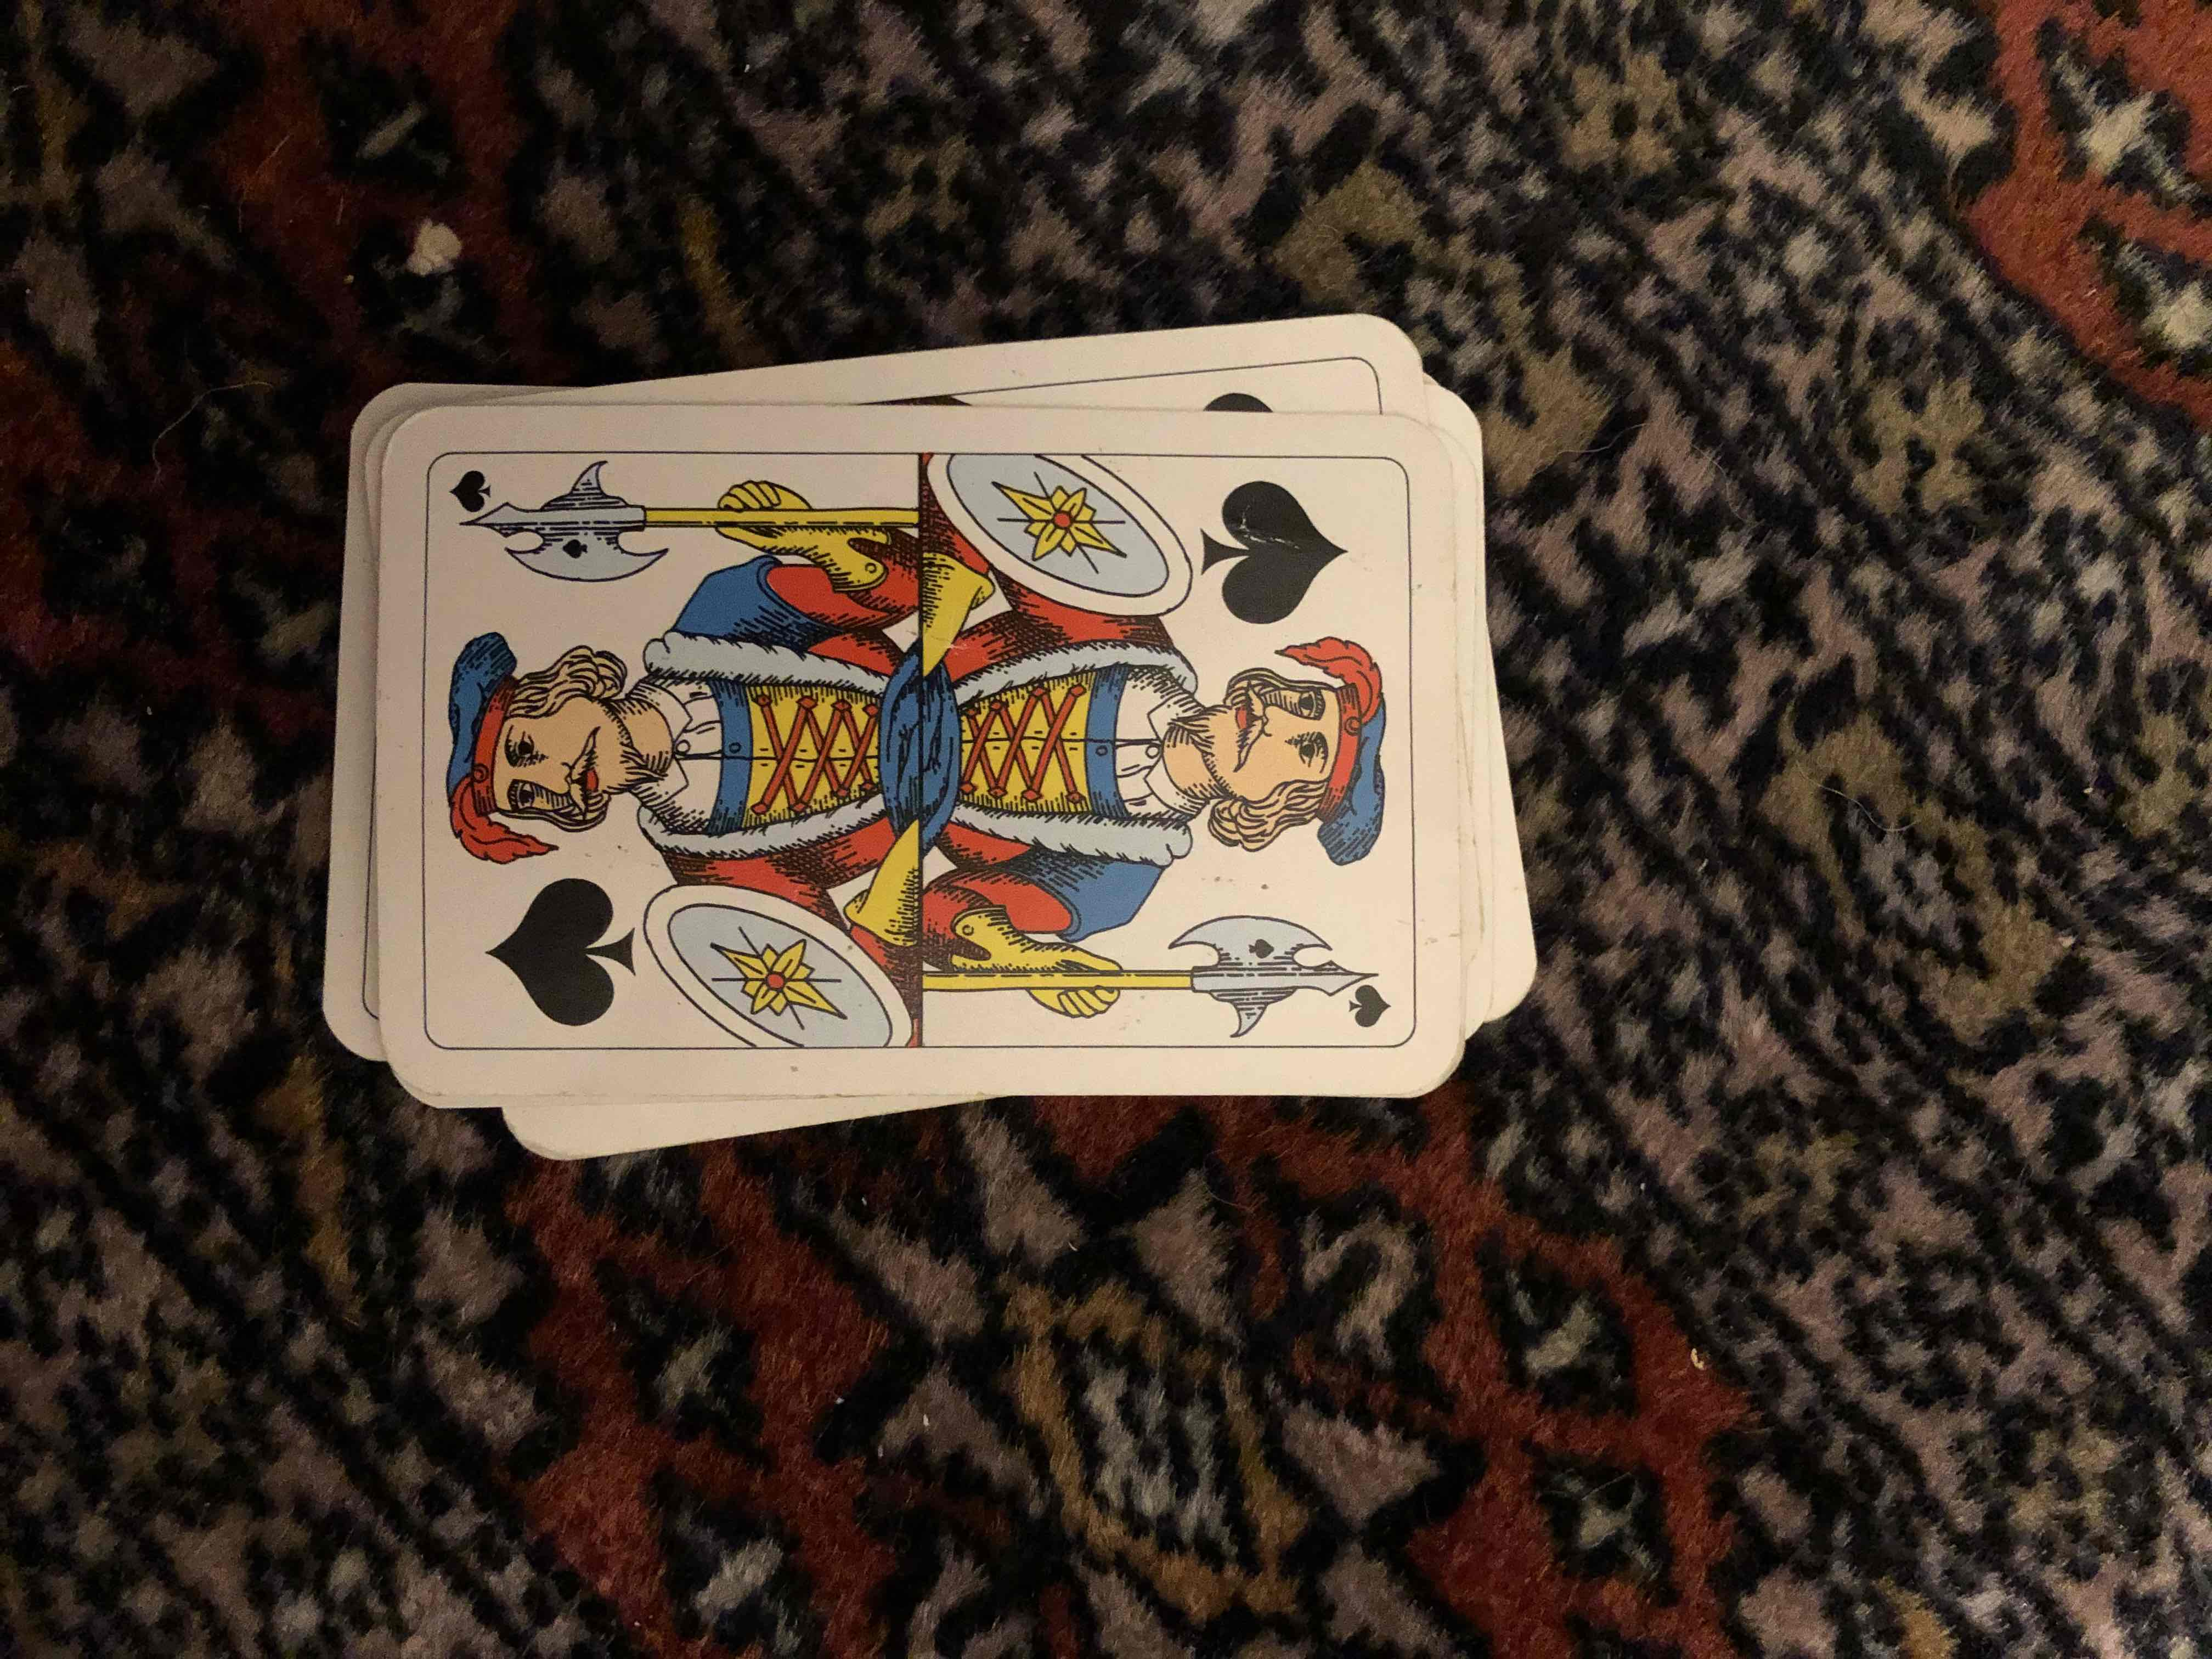spadesJack: (420, 401, 1486, 1096)
